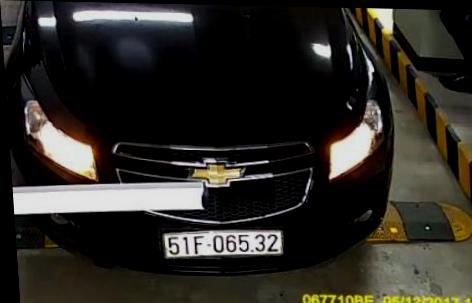License_Plate: (156, 223, 286, 262)
